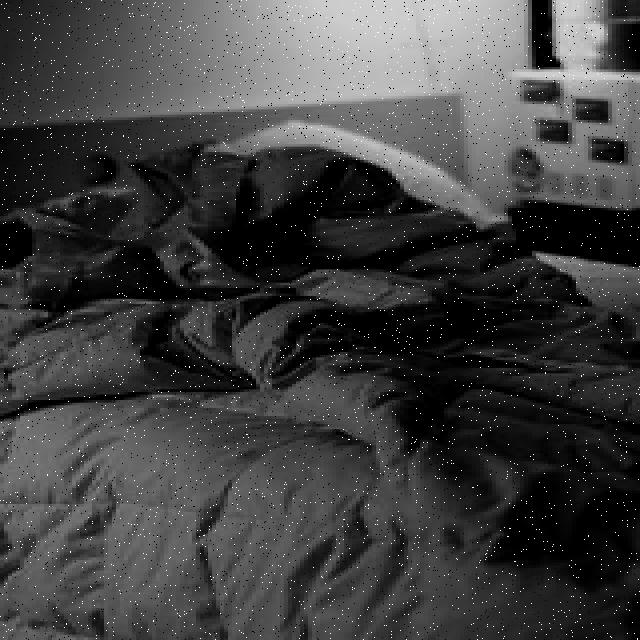bed: (13, 105, 640, 640)
